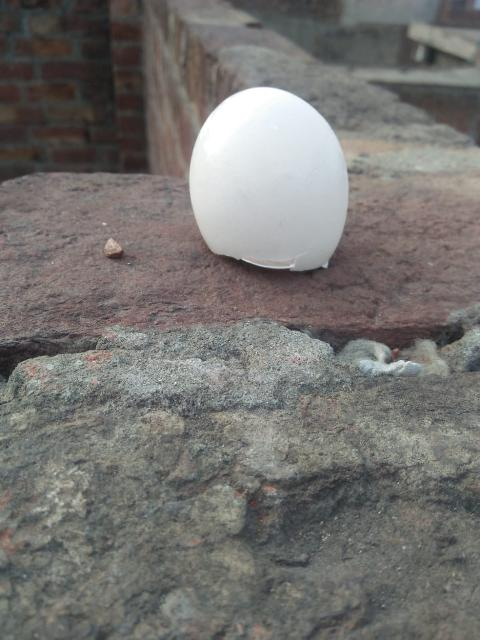Roto: (188, 85, 350, 272)
